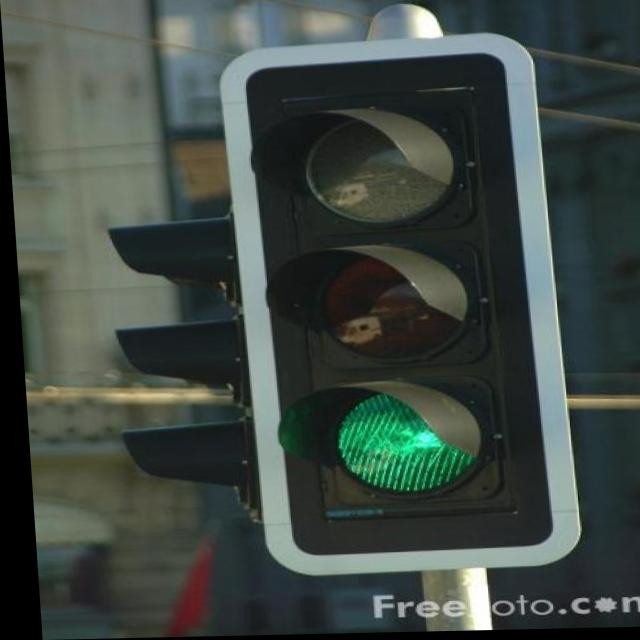green light: (235, 59, 545, 554)
